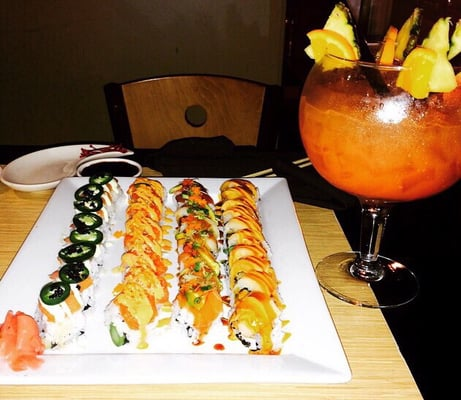sushi: (1, 142, 141, 197)
